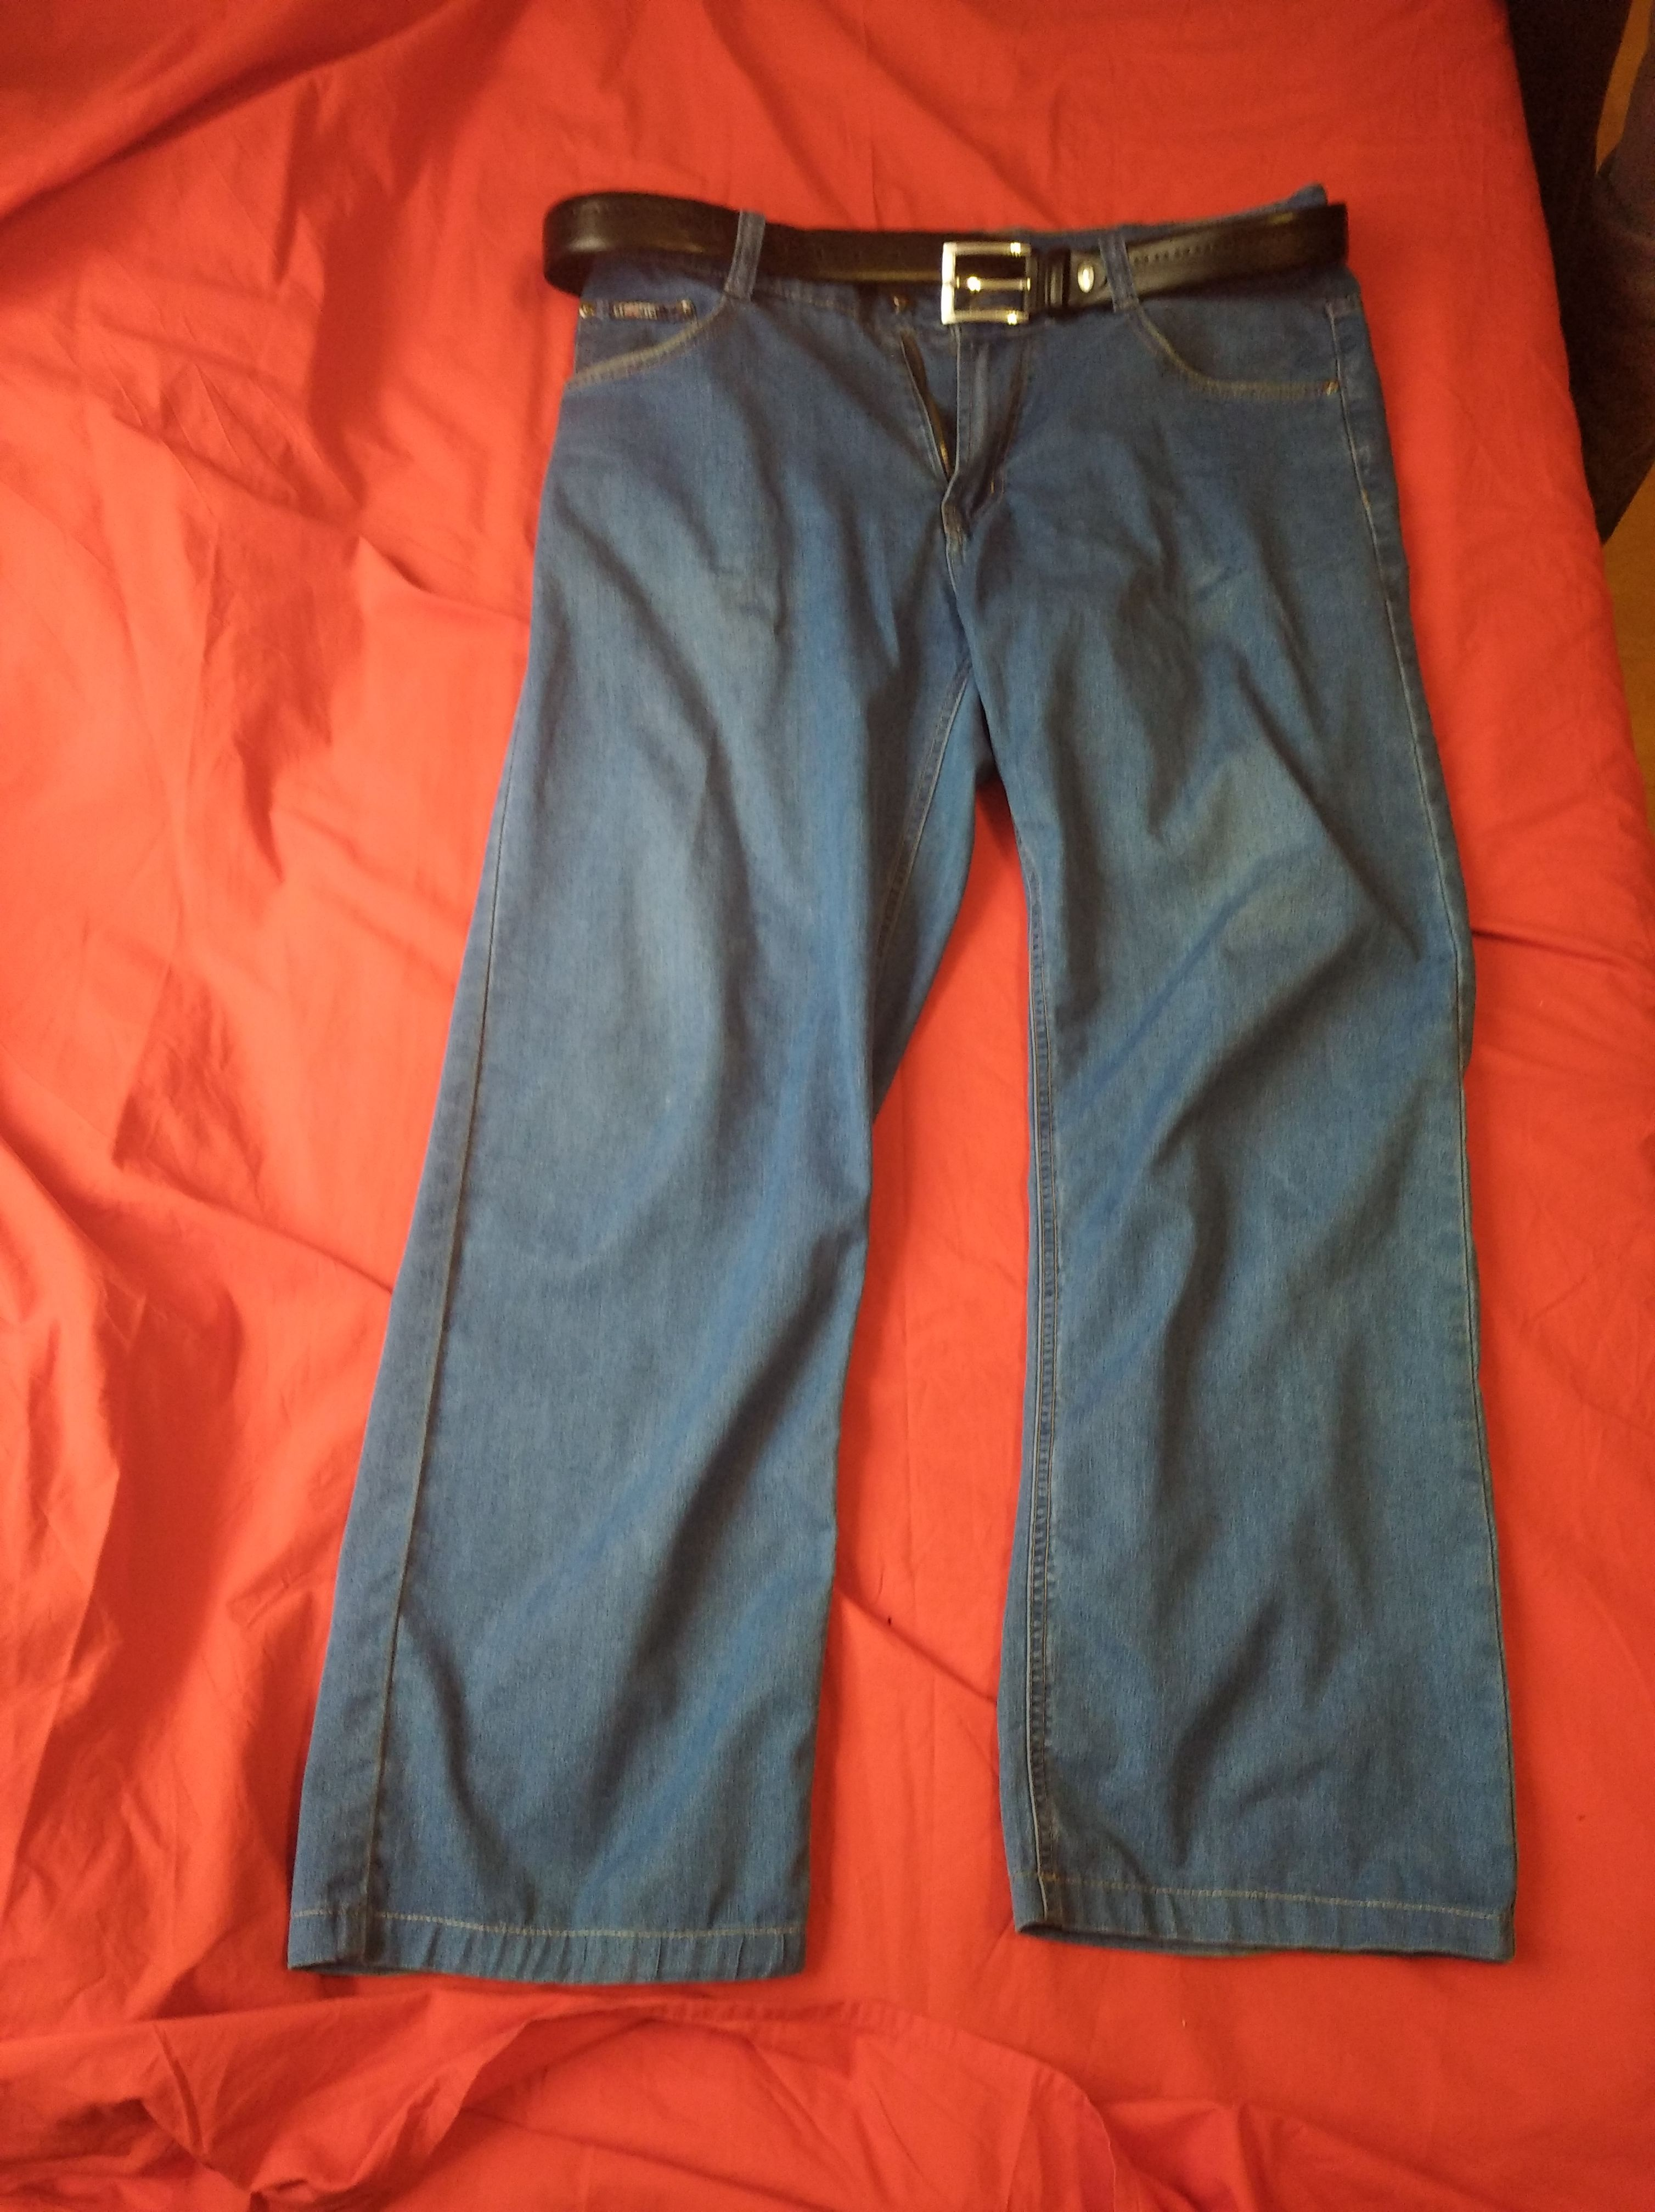clothes: (304, 170, 1540, 2009)
